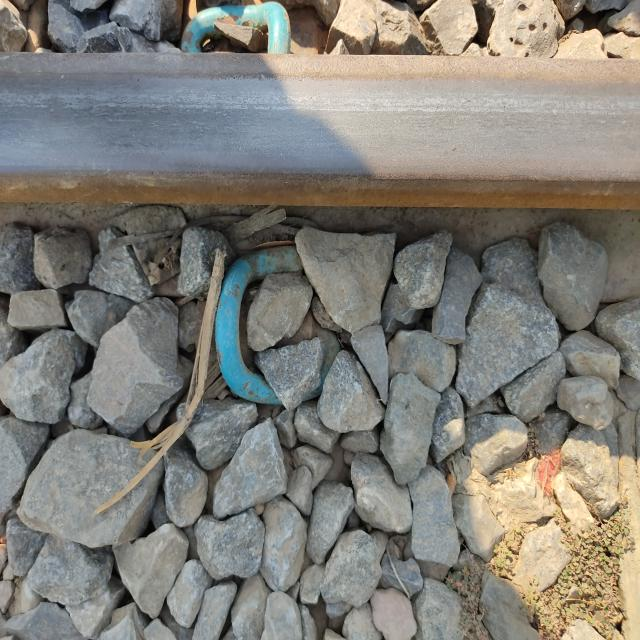non-defective: (168, 0, 383, 412)
